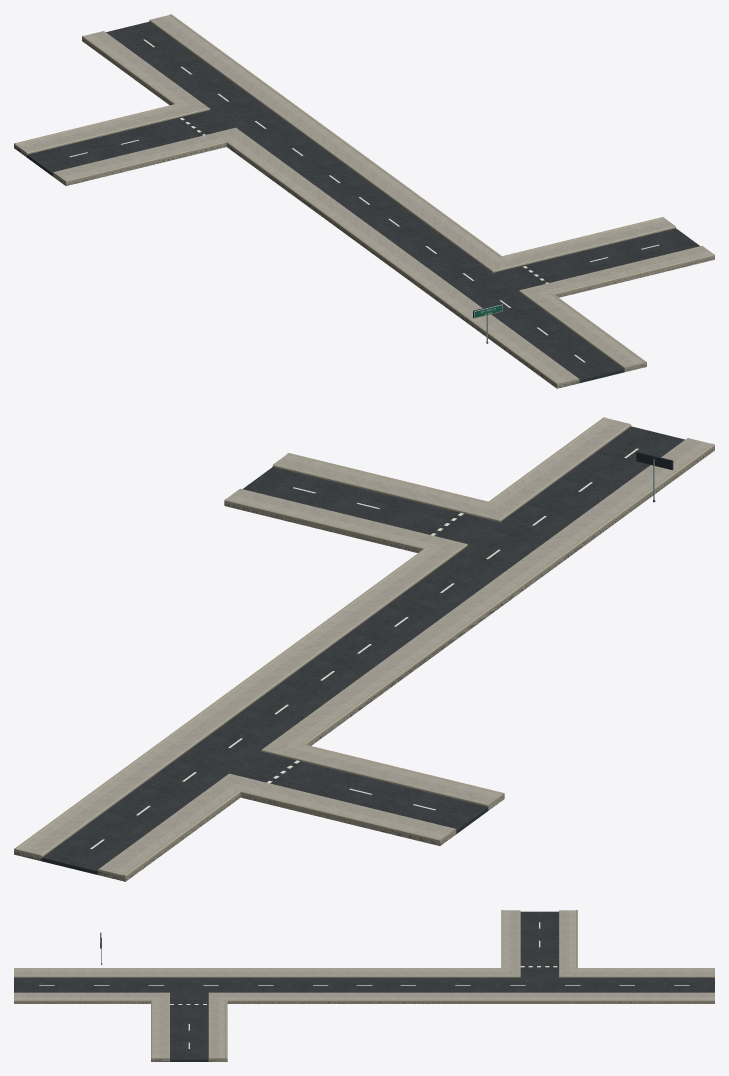
3 views of the same model, one above another, from view 1: azimuth 30°, elevation 25°; view 2: azimuth 150°, elevation 25°; view 3: azimuth 270°, elevation 25° (orthographic). The views are drawn at different scales.
Visible parts, largest first — view 1: Kerbs and Footways, Road Deck; view 2: Kerbs and Footways, Road Deck, Road Markings; view 3: Kerbs and Footways, Road Deck, Road Markings.
Boxes of the visible parts, x1,y1,x2,y2 form: Kerbs and Footways: [14, 14, 714, 388]; Road Deck: [14, 21, 714, 388]; Kerbs and Footways: [14, 417, 714, 881]; Road Deck: [14, 426, 714, 881]; Road Markings: [90, 448, 638, 848]; Kerbs and Footways: [14, 910, 714, 1061]; Road Deck: [14, 911, 714, 1061]; Road Markings: [39, 922, 689, 1048].
Size of the model in its own units: 32 by 3.04 by 64.
Materials: 10 (2 with a texture image).
